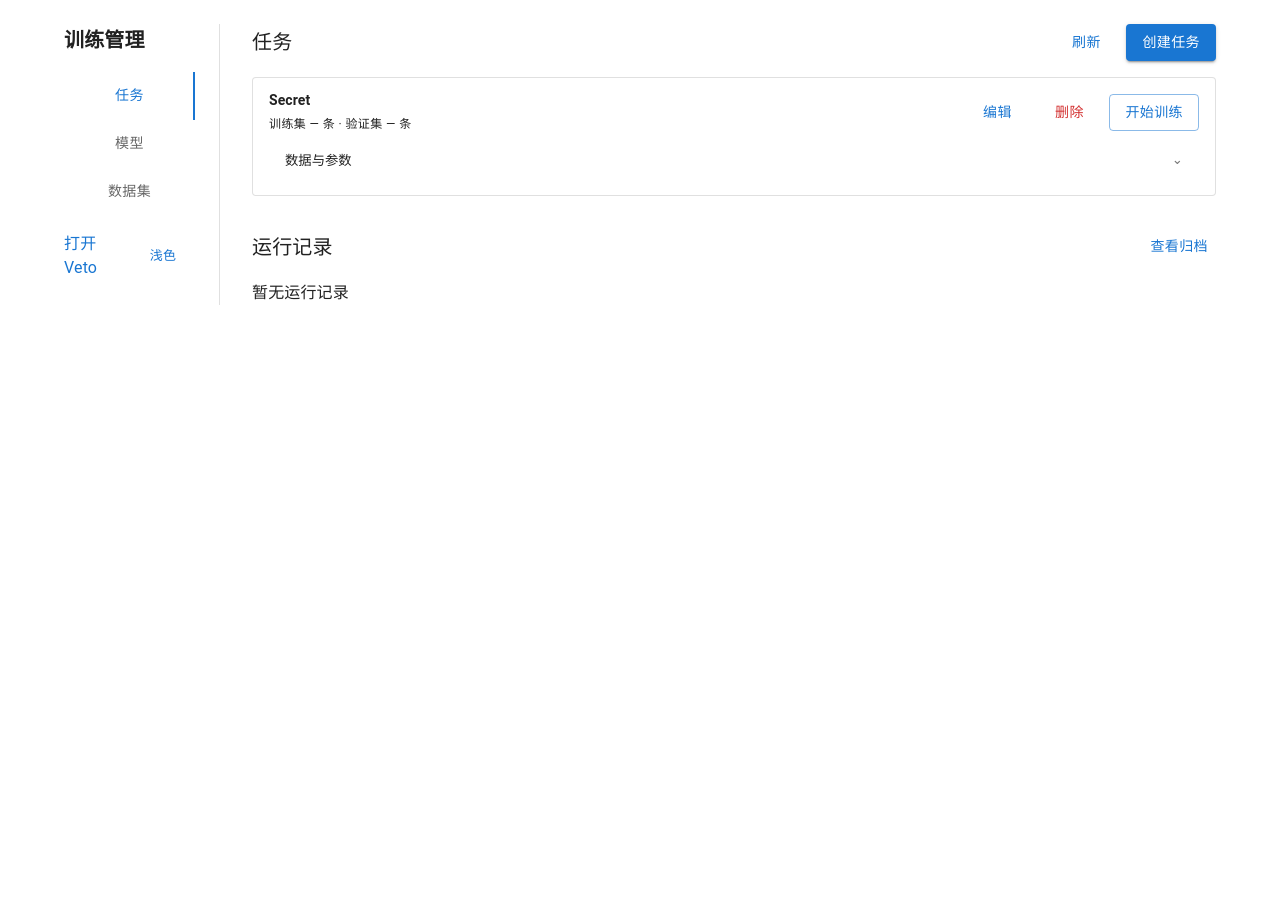
it: empty name is validated without posting or losing form input
This screenshot has width=1280, height=900.
Check: the heading "Secret" is shown, box [269, 92, 310, 108]
Click the button "创建任务": click(1171, 42) [1126, 24, 1216, 60]
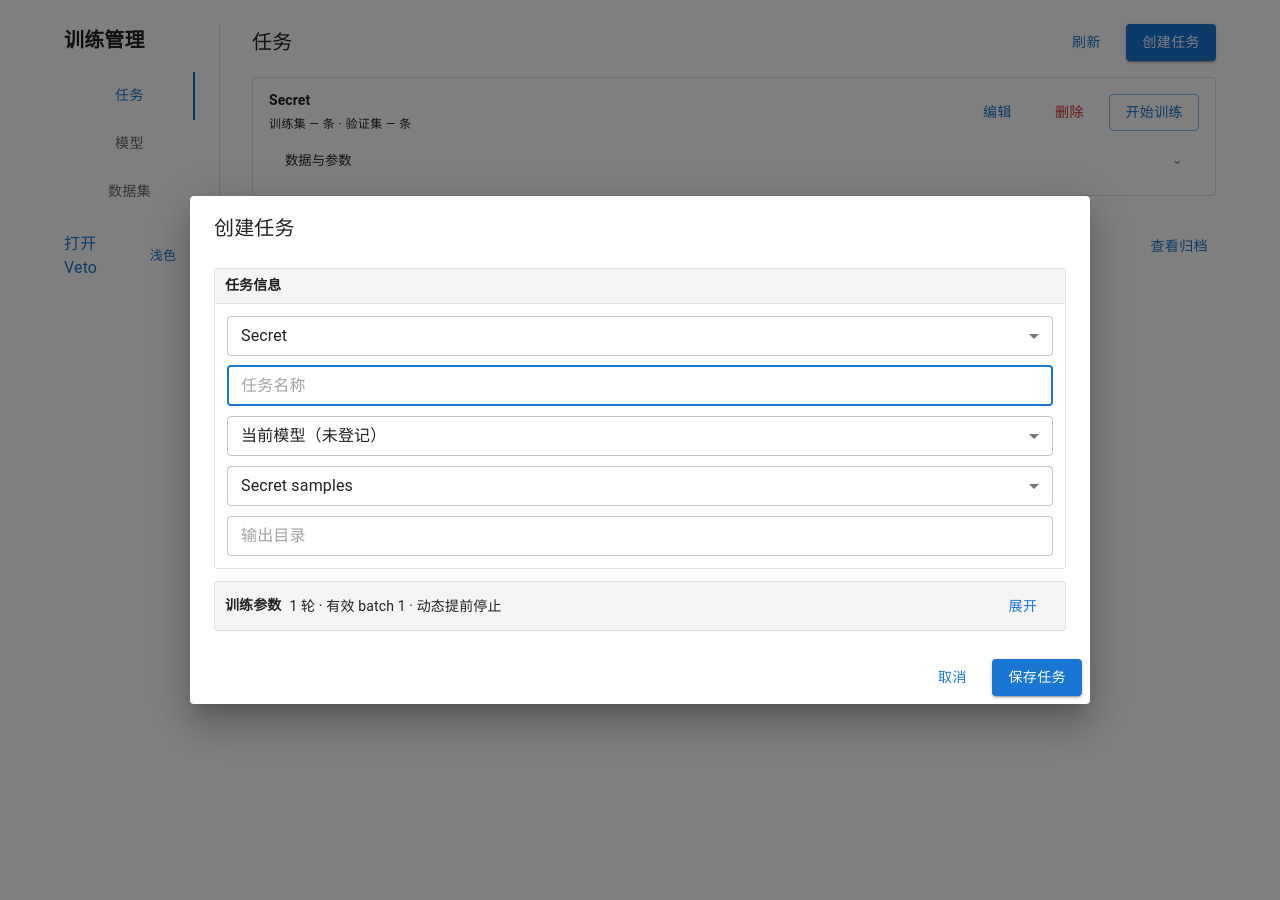
Click the button "保存任务": click(1037, 678) [992, 660, 1082, 696]
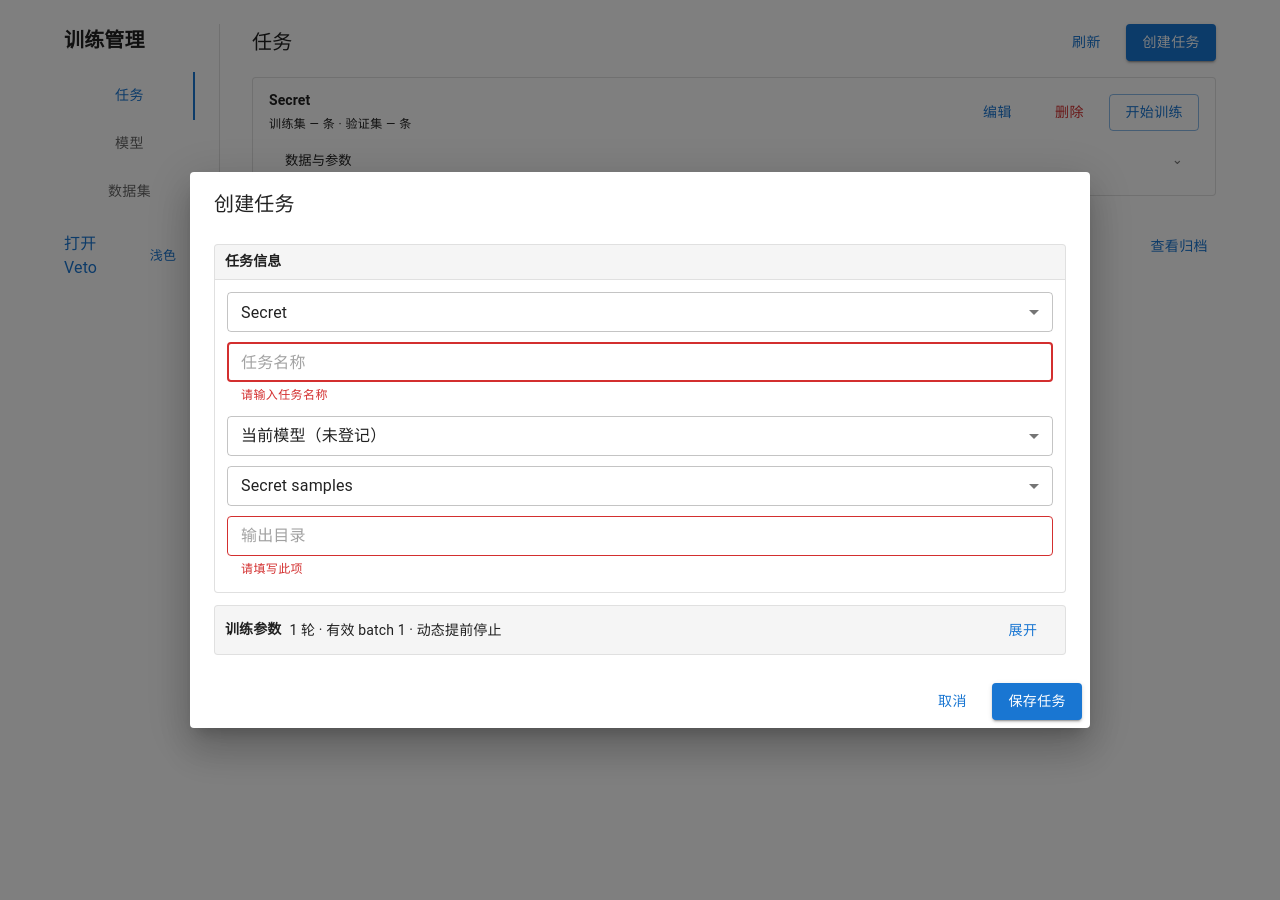
Check: the text "请输入任务名称" is shown, box [241, 388, 328, 402]
